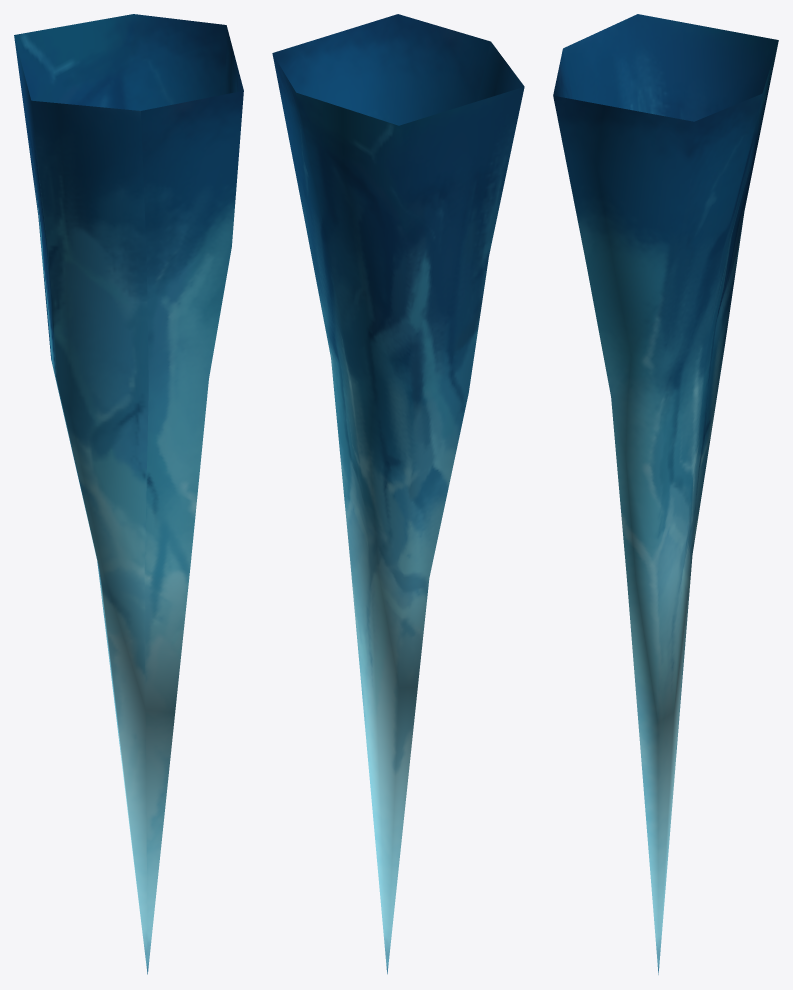
File: BingYingZhong_Bing_8.fbx
3 views of the same model, side by side, from view 1: azimuth 30°, elevation 25°; view 2: azimuth 150°, elevation 25°; view 3: azimuth 270°, elevation 25° (orthographic).
Visible parts, largest first — view 1: BingYingZhong_Bing_8; view 2: BingYingZhong_Bing_8; view 3: BingYingZhong_Bing_8.
Boxes of the visible parts, <box> form: BingYingZhong_Bing_8: <box>14,14,243,974</box>; BingYingZhong_Bing_8: <box>272,14,524,974</box>; BingYingZhong_Bing_8: <box>553,14,778,974</box>.
Bounding box in the file's own units: 169 × 659 × 150.
